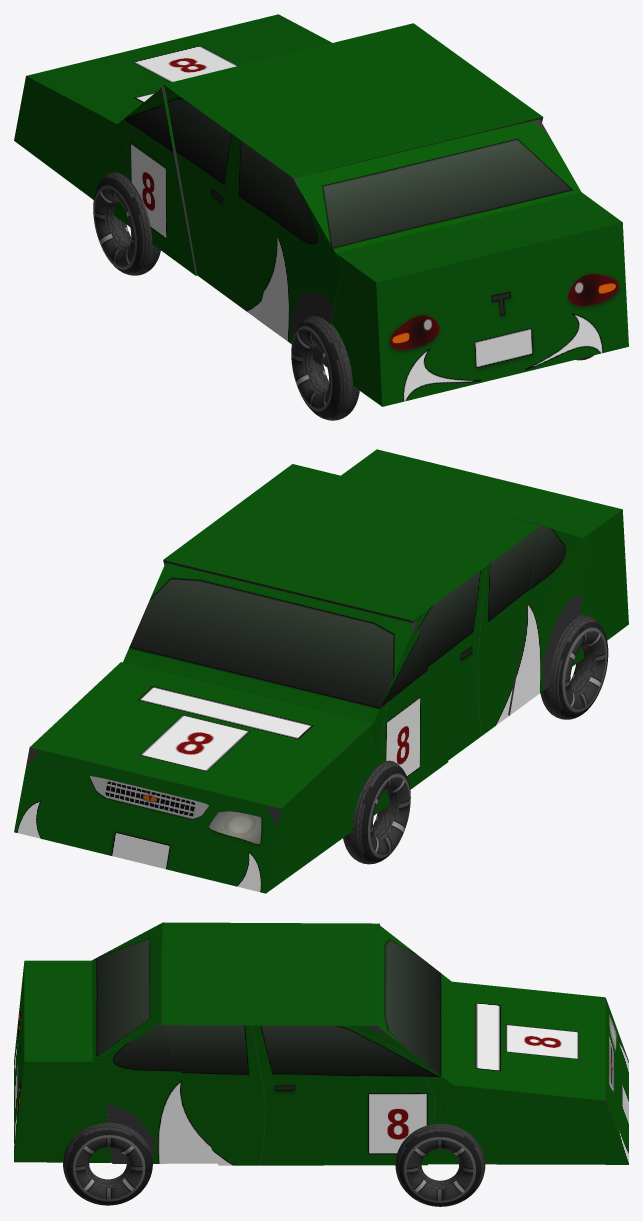
File: carroverded.fbx
3 renders of one model, top to bottom at view 1: azimuth 30°, elevation 25°; view 2: azimuth 150°, elevation 25°; view 3: azimuth 270°, elevation 25°, orthographic. The views are drawn at different scales.
Visible parts, largest first — view 1: Carro; view 2: Carro; view 3: Carro.
Part boxes in pixels (x1,y1,x2,y2): Carro: [14, 14, 628, 420]; Carro: [14, 449, 628, 893]; Carro: [14, 922, 628, 1206].
Size of the model in its own units: 287 by 213 by 656.
